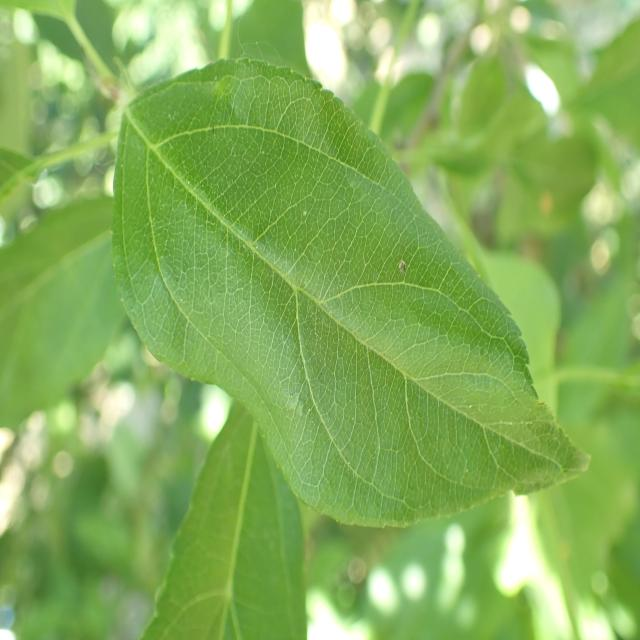healthy: (111, 58, 592, 529), (140, 397, 306, 640), (0, 194, 125, 432)
